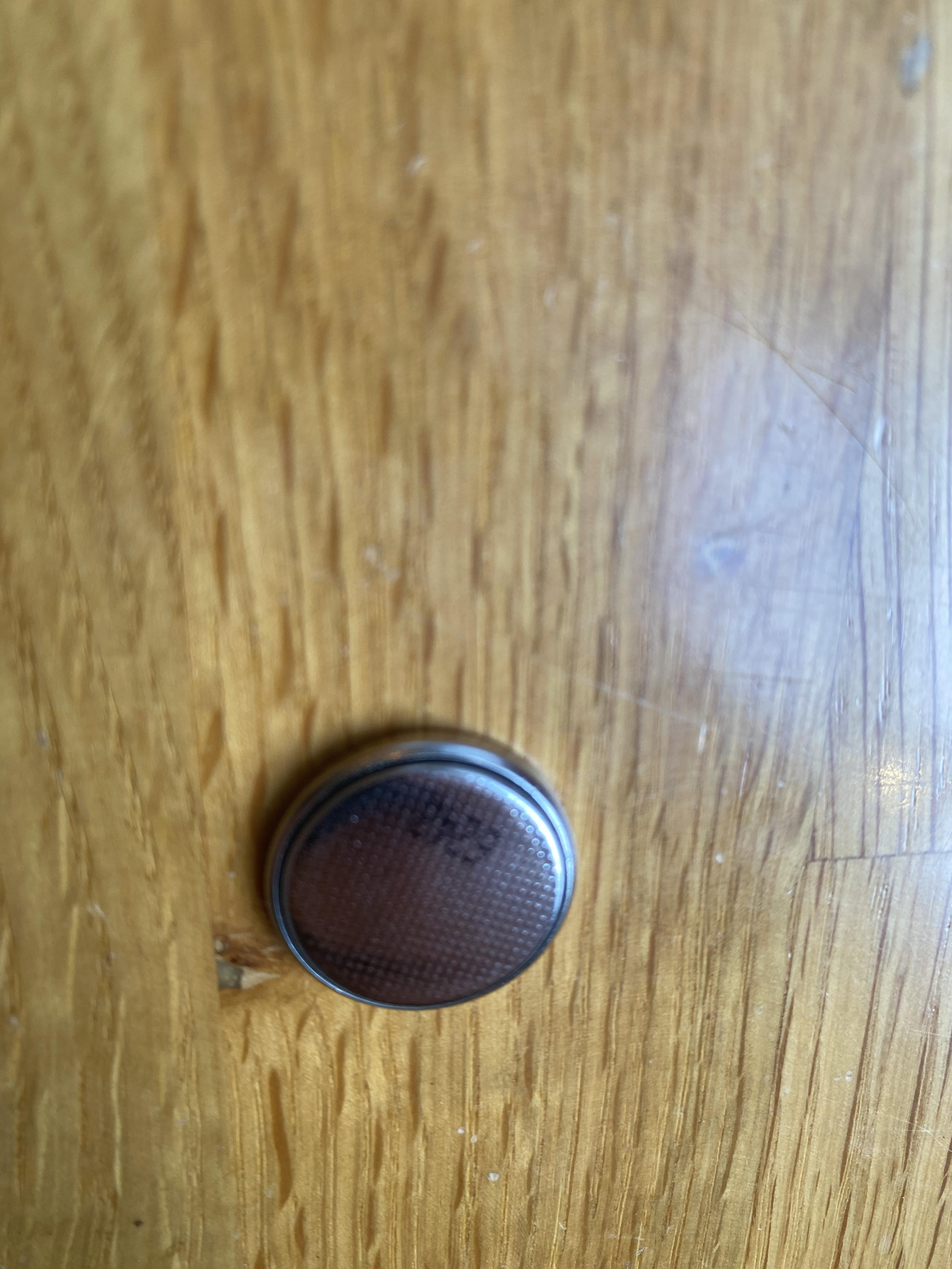COIN: (260, 728, 577, 1012)
